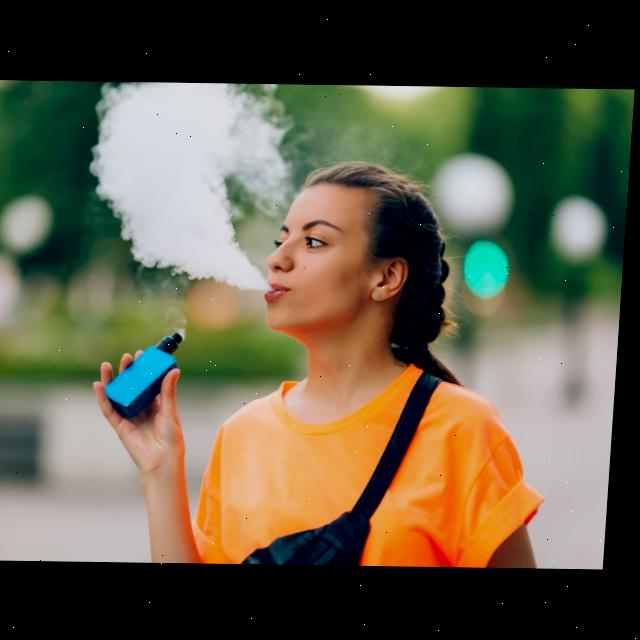vape: (106, 331, 189, 421)
